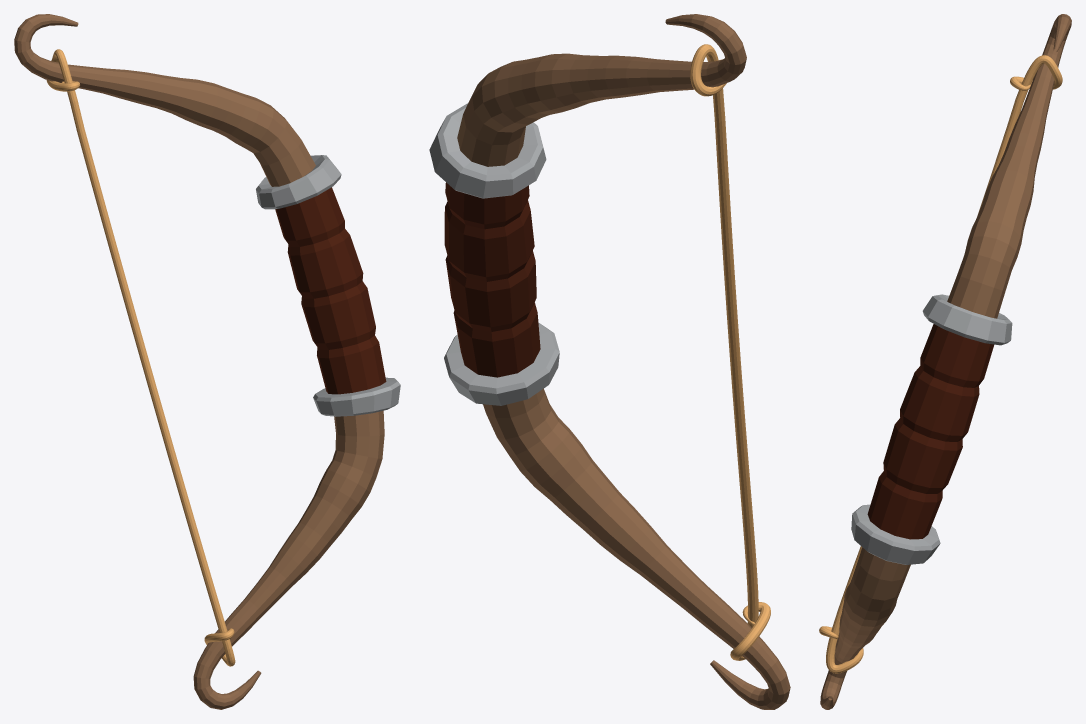
The model's file is bs-bow.fbx.
The picture shows the model from 3 angles, left to right: view 1: azimuth 30°, elevation 25°; view 2: azimuth 150°, elevation 25°; view 3: azimuth 270°, elevation 25°; orthographic projection. The views are drawn at different scales.
Parts seen in each view (by area): view 1: NurbsPath.020; view 2: NurbsPath.020; view 3: NurbsPath.020.
Boxes of the visible parts, box(x1,y1,x2,y2) form: NurbsPath.020: box(14, 14, 400, 709); NurbsPath.020: box(429, 14, 790, 709); NurbsPath.020: box(819, 14, 1071, 709).
Size of the model in its own units: 70.79 by 141 by 49.29.
